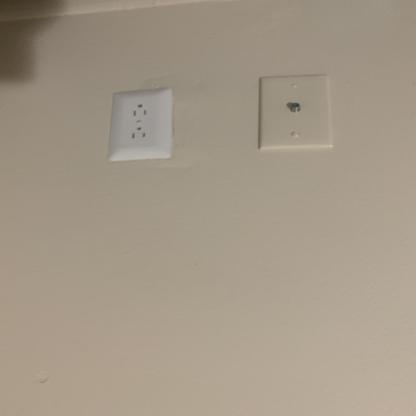OUTLET: (108, 90, 172, 162)
